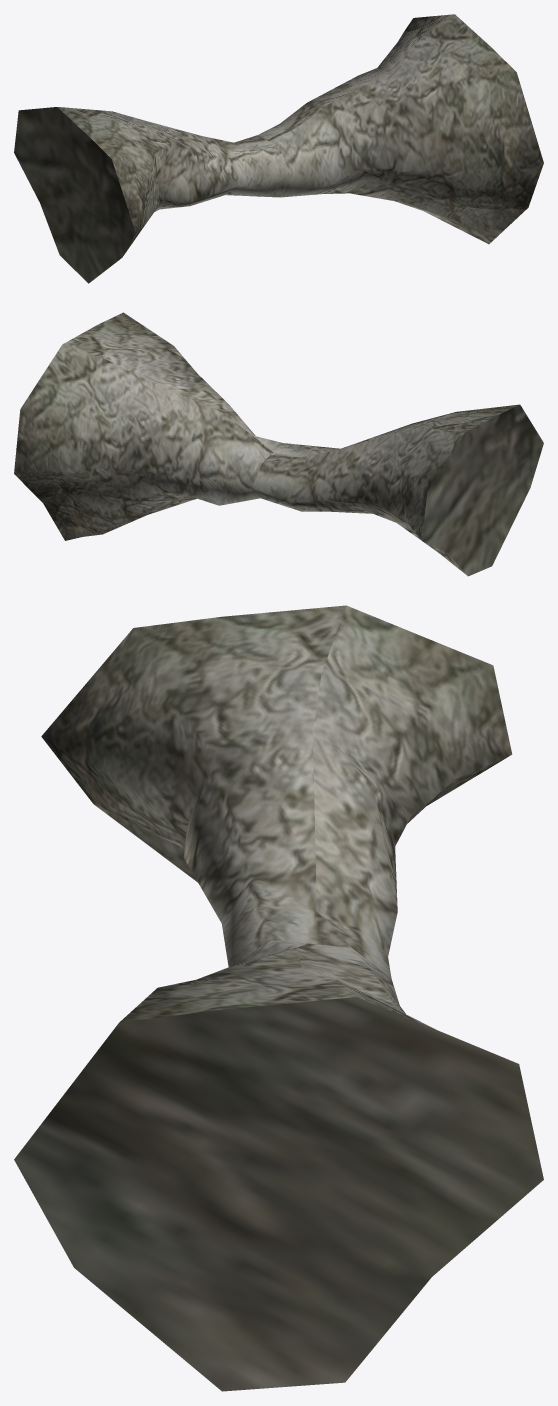
File: DN_lv3_hd_stone04.FBX
The picture shows the model from 3 angles, top to bottom: view 1: azimuth 30°, elevation 25°; view 2: azimuth 150°, elevation 25°; view 3: azimuth 270°, elevation 25°; orthographic projection. The views are drawn at different scales.
Visible parts, largest first — view 1: DN_lv3_hd_stone04; view 2: DN_lv3_hd_stone04; view 3: DN_lv3_hd_stone04.
Boxes of the visible parts, x1,y1,x2,y2 form: DN_lv3_hd_stone04: [14, 14, 543, 283]; DN_lv3_hd_stone04: [14, 312, 543, 576]; DN_lv3_hd_stone04: [14, 605, 543, 1391].
Size of the model in its own units: 2483 by 1251 by 1469.
